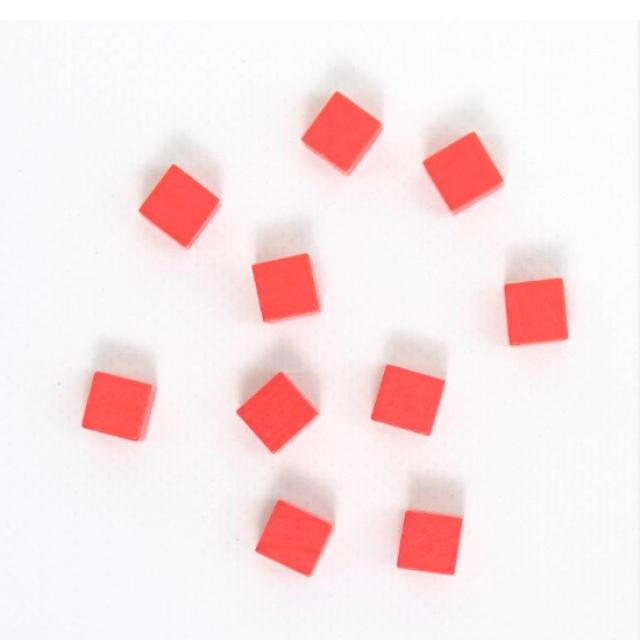red cube: (234, 371, 324, 457), (300, 92, 390, 176), (137, 162, 222, 250), (422, 129, 507, 215), (255, 500, 333, 577), (80, 370, 159, 444), (370, 363, 447, 437), (251, 252, 320, 322), (504, 276, 571, 348), (395, 509, 464, 578)
